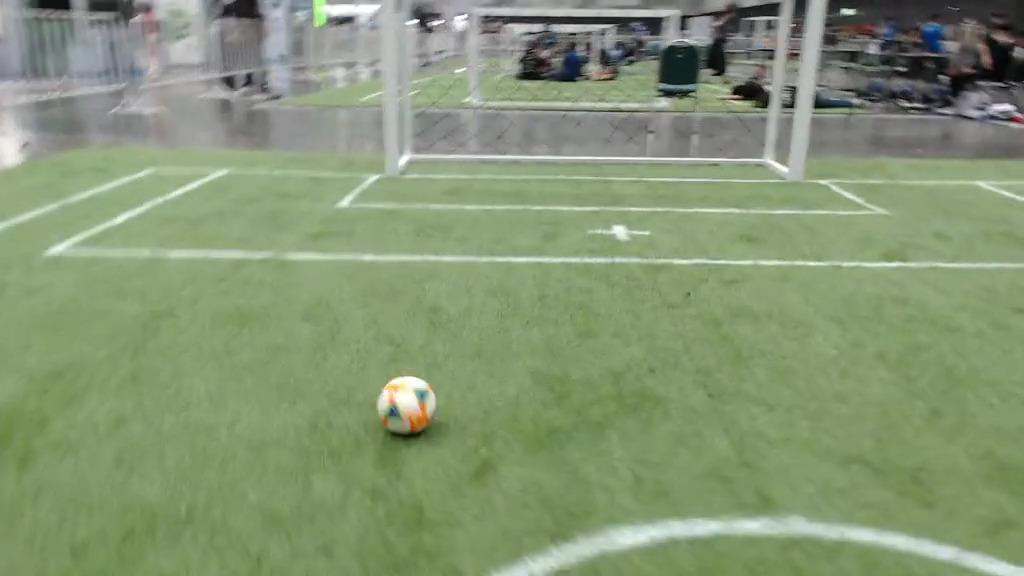ball: (379, 374, 436, 438)
